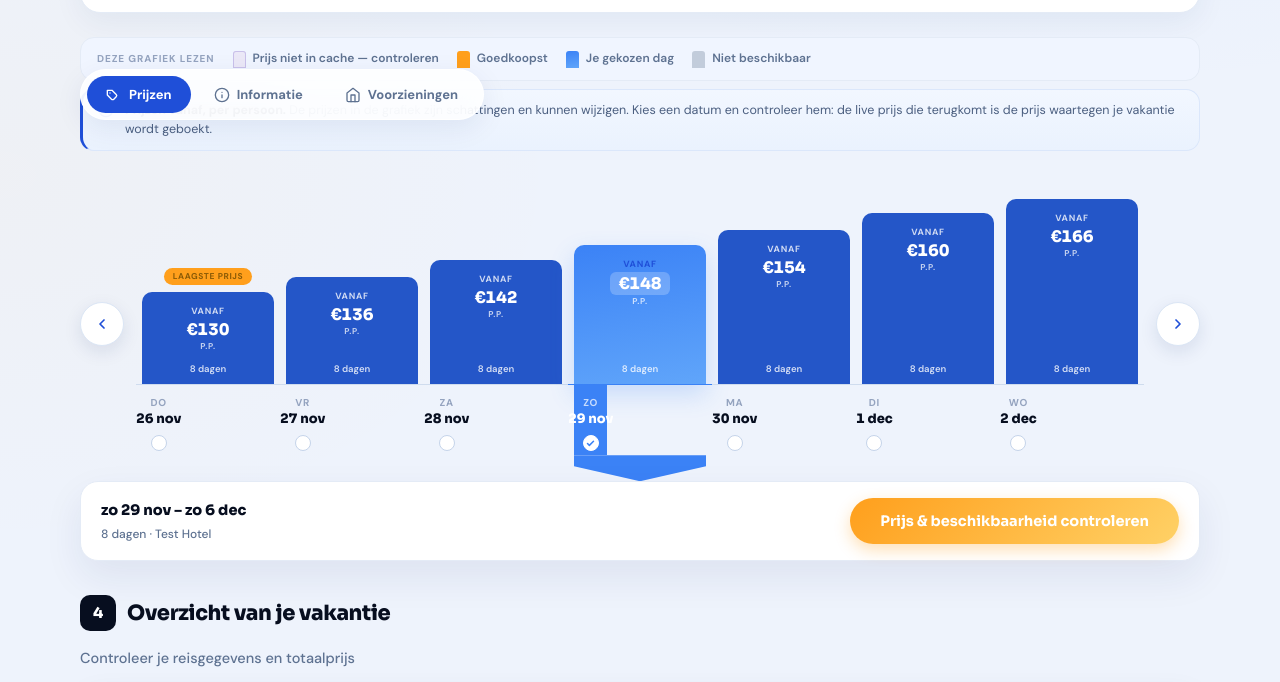
Test: rooms the supplier could not price › asks to check the price instead of saying the hotel is sold out
(page scrolled)
Click the button "Laagste prijs vanaf €130 p.p. 8 dagen do 26 nov": (208, 327) [136,173,280,481]
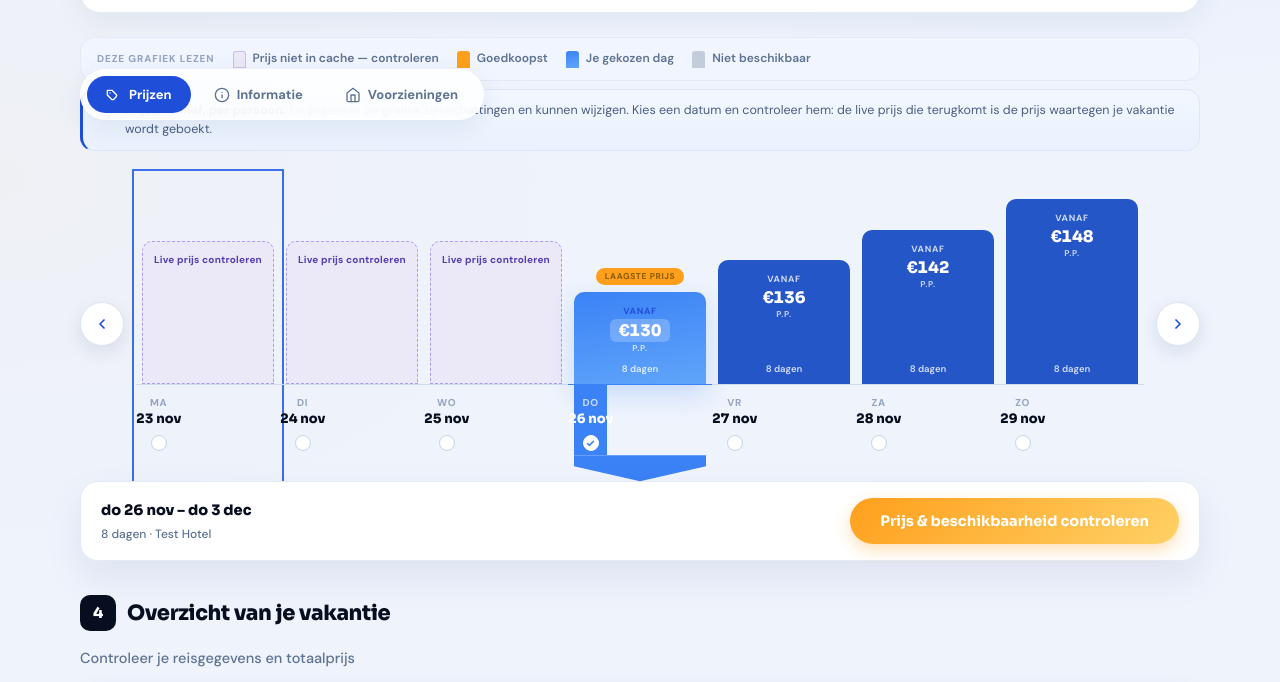
Click the button "Prijs & beschikbaarheid controleren": (1015, 521) [850,498,1179,544]
(page scrolled)
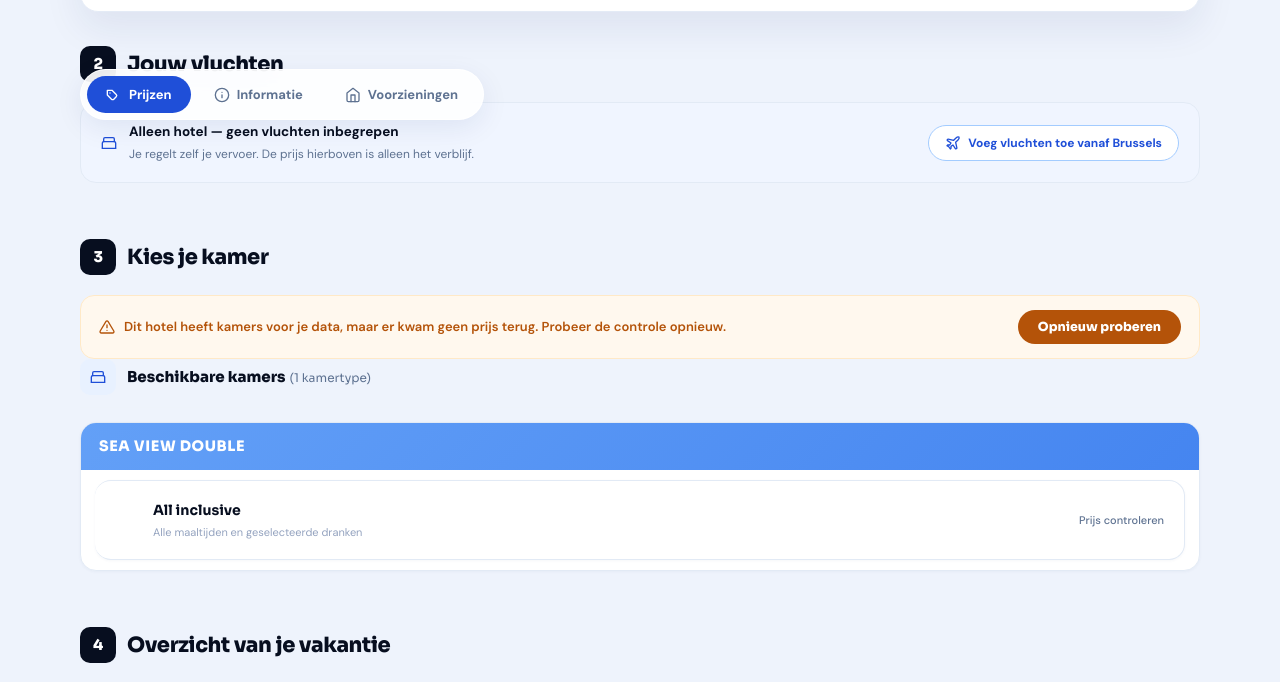
Expected: the element with class "live-error" is shown, [80,295,1200,359]
Expected: the button "Niet beschikbaar" is gone
Expected: the text "er kwam geen prijs terug" is shown, [124,318,726,335]
